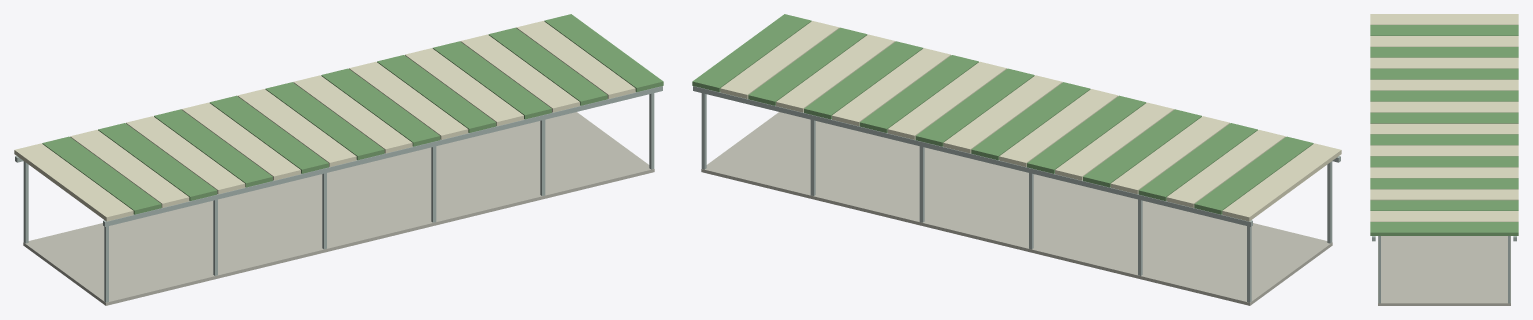
3 views of the same model, side by side, from view 1: azimuth 30°, elevation 25°; view 2: azimuth 150°, elevation 25°; view 3: azimuth 270°, elevation 25° (orthographic). The views are drawn at different scales.
Visible parts, largest first — view 1: westshade__slab, westshade__cream, westshade__green, westshade__metal; view 2: westshade__slab, westshade__cream, westshade__green, westshade__metal; view 3: westshade__green, westshade__cream, westshade__slab, westshade__metal.
Part boxes in pixels (x1,y1,x2,y2): westshade__slab: (23, 112, 654, 305); westshade__cream: (14, 21, 635, 221); westshade__green: (42, 14, 663, 214); westshade__metal: (15, 86, 662, 302); westshade__slab: (701, 112, 1332, 305); westshade__cream: (720, 21, 1341, 221); westshade__green: (692, 14, 1313, 214); westshade__metal: (693, 86, 1340, 302); westshade__green: (1370, 25, 1518, 235); westshade__cream: (1370, 14, 1518, 221); westshade__slab: (1378, 236, 1510, 305); westshade__metal: (1372, 236, 1516, 303).
Size of the model in its own units: 22 by 3.51 by 6.3.
